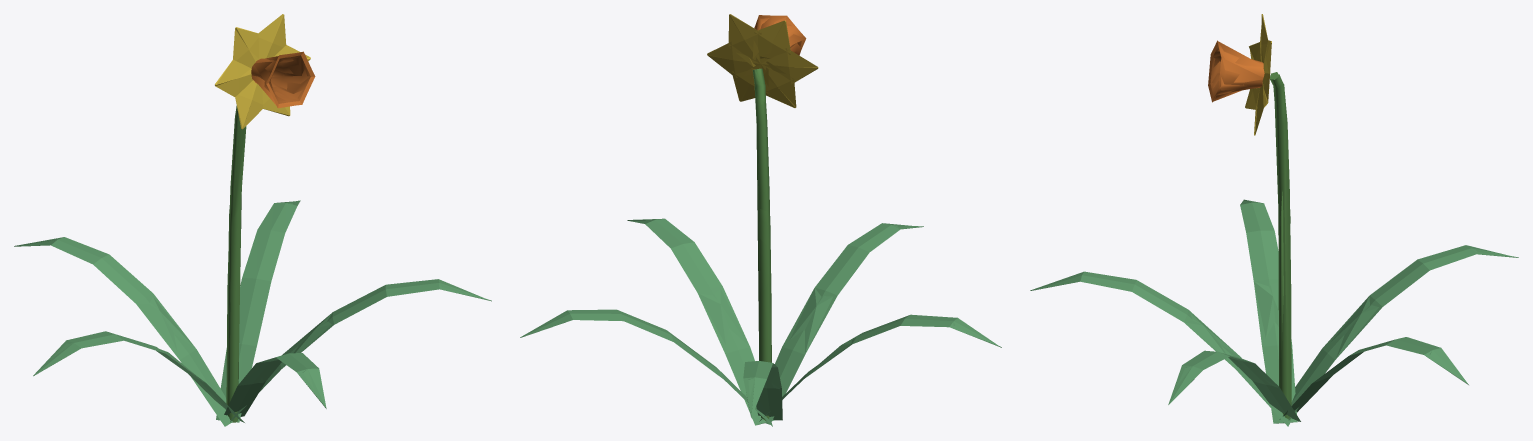
Rendered from daffodil_a.glb.
3 renders of one model, left to right at view 1: azimuth 30°, elevation 25°; view 2: azimuth 150°, elevation 25°; view 3: azimuth 270°, elevation 25°, orthographic. The views are drawn at different scales.
Parts seen in each view (by area): view 1: leaf_nl, body__far, petal_yellow_nl, stem, petal_orange_nl; view 2: leaf_nl, body__far, petal_yellow_nl, stem, petal_orange_nl; view 3: leaf_nl, body__far, stem, petal_yellow_nl, petal_orange_nl.
Part boxes in pixels (<box>): leaf_nl: <box>14,200,491,426</box>; body__far: <box>17,52,482,418</box>; petal_yellow_nl: <box>215,14,310,129</box>; stem: <box>226,106,241,422</box>; petal_orange_nl: <box>251,51,314,107</box>; leaf_nl: <box>520,218,1001,426</box>; body__far: <box>521,15,996,416</box>; petal_yellow_nl: <box>707,14,818,107</box>; stem: <box>752,68,771,420</box>; petal_orange_nl: <box>754,15,806,55</box>; leaf_nl: <box>1030,199,1518,426</box>; body__far: <box>1032,41,1505,420</box>; stem: <box>1270,76,1291,418</box>; petal_yellow_nl: <box>1245,14,1271,135</box>; petal_orange_nl: <box>1209,40,1264,102</box>.
Bounding box in the file's own units: 17.53 × 16.05 × 17.64.
